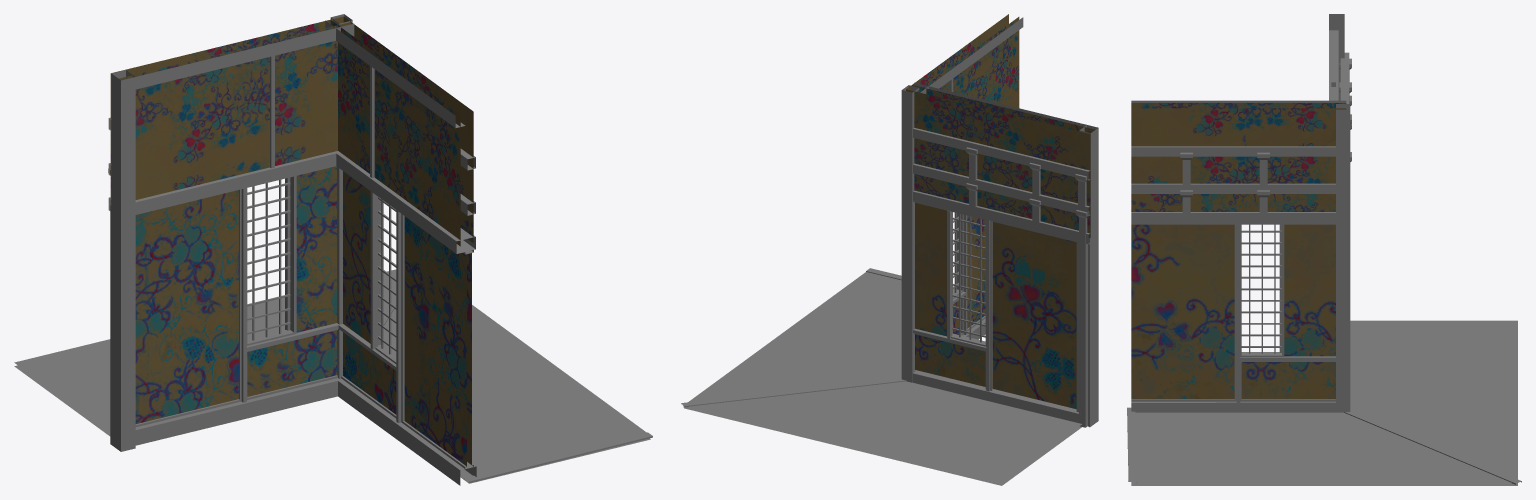
The model's file is FL3_Exterior_Wals_Corners.fbx.
3 views of the same model, side by side, from view 1: azimuth 30°, elevation 25°; view 2: azimuth 150°, elevation 25°; view 3: azimuth 270°, elevation 25° (orthographic). The views are drawn at different scales.
Visible parts, largest first — view 1: FL3_Exterior_Wals_Corners; view 2: FL3_Exterior_Wals_Corners; view 3: FL3_Exterior_Wals_Corners.
Part boxes in pixels (x1,y1,x2,y2): FL3_Exterior_Wals_Corners: [14, 14, 652, 485]; FL3_Exterior_Wals_Corners: [681, 14, 1098, 485]; FL3_Exterior_Wals_Corners: [1127, 14, 1521, 485].
Bounding box in the file's own units: 468 × 401 × 468.
